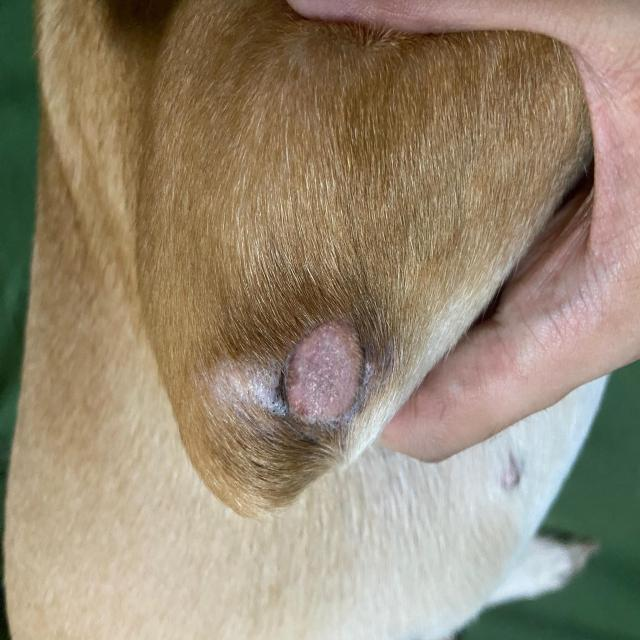ringworm: (256, 265, 383, 444)
